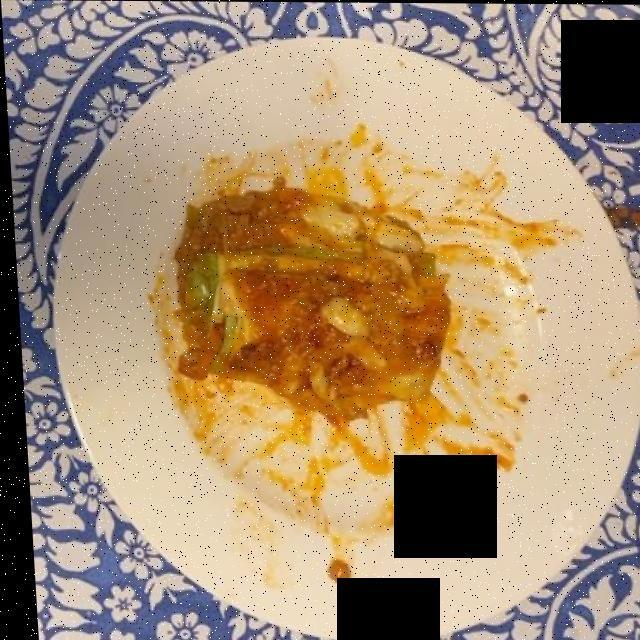lasagne: (166, 180, 464, 427)
